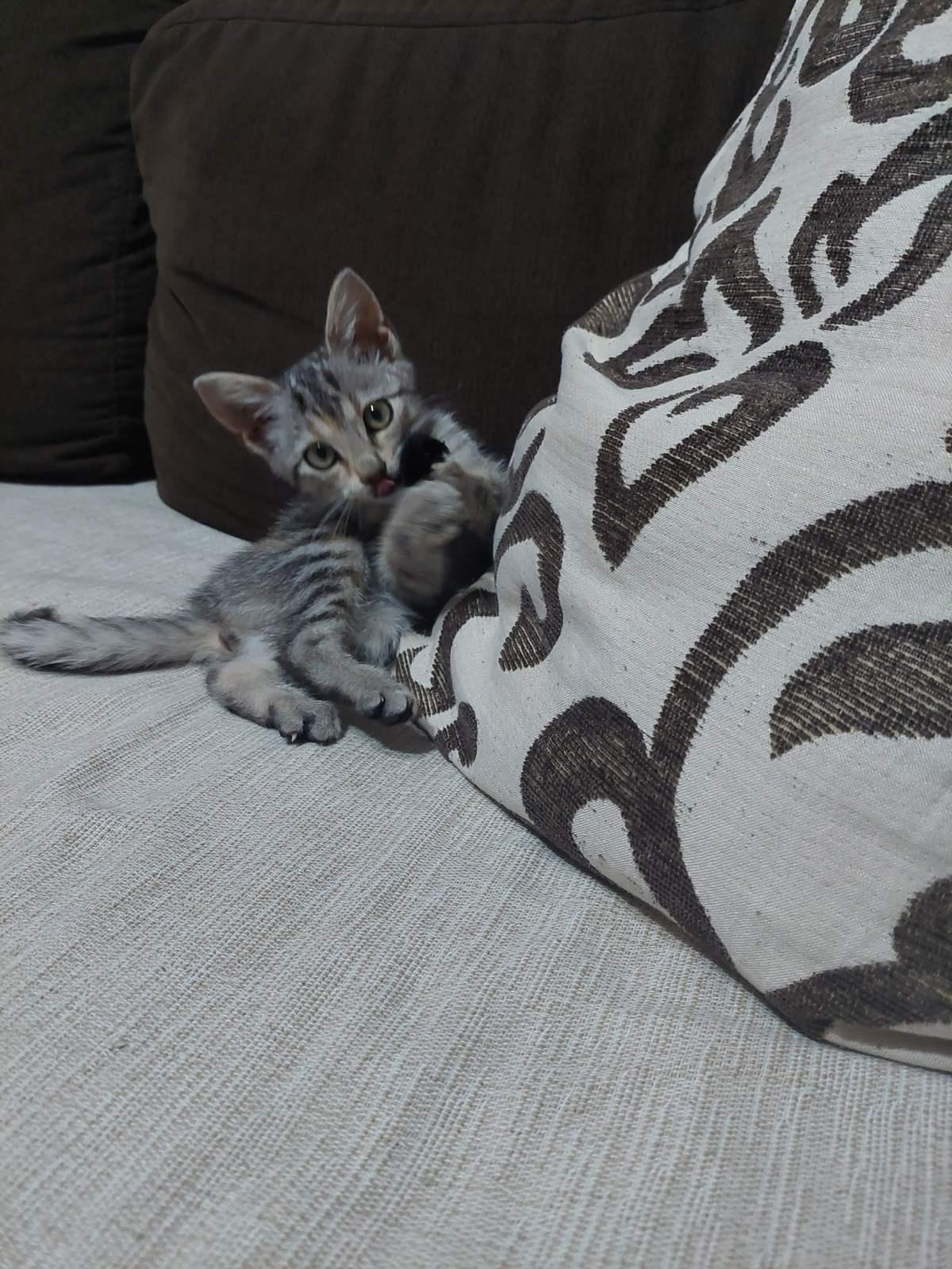macka: (0, 267, 509, 745)
